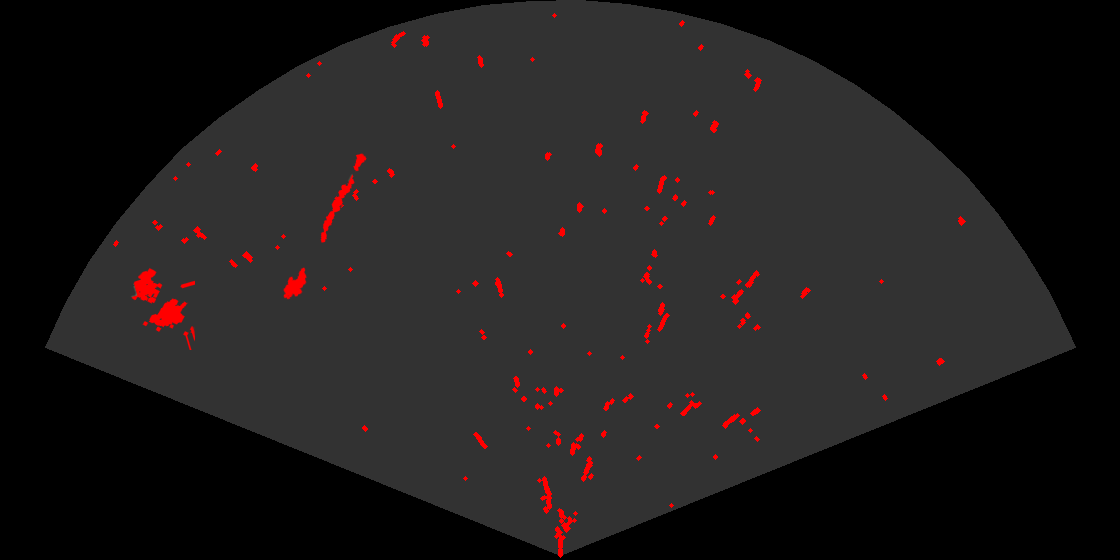AUV: (282, 266, 308, 301)
cage: (130, 267, 195, 350)
chain: (319, 152, 368, 244)
